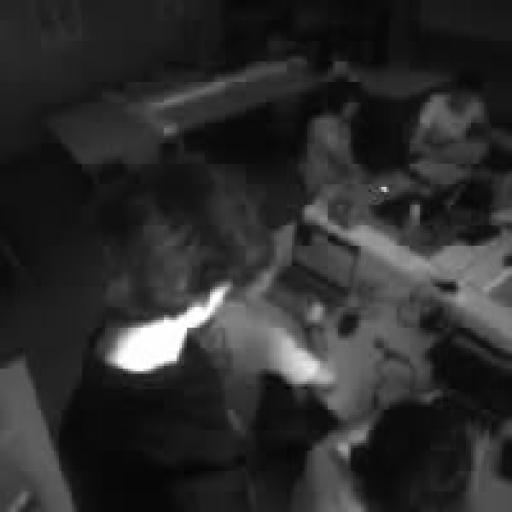human: (59, 162, 273, 511), (292, 397, 488, 511), (410, 72, 491, 166), (300, 82, 363, 199)
